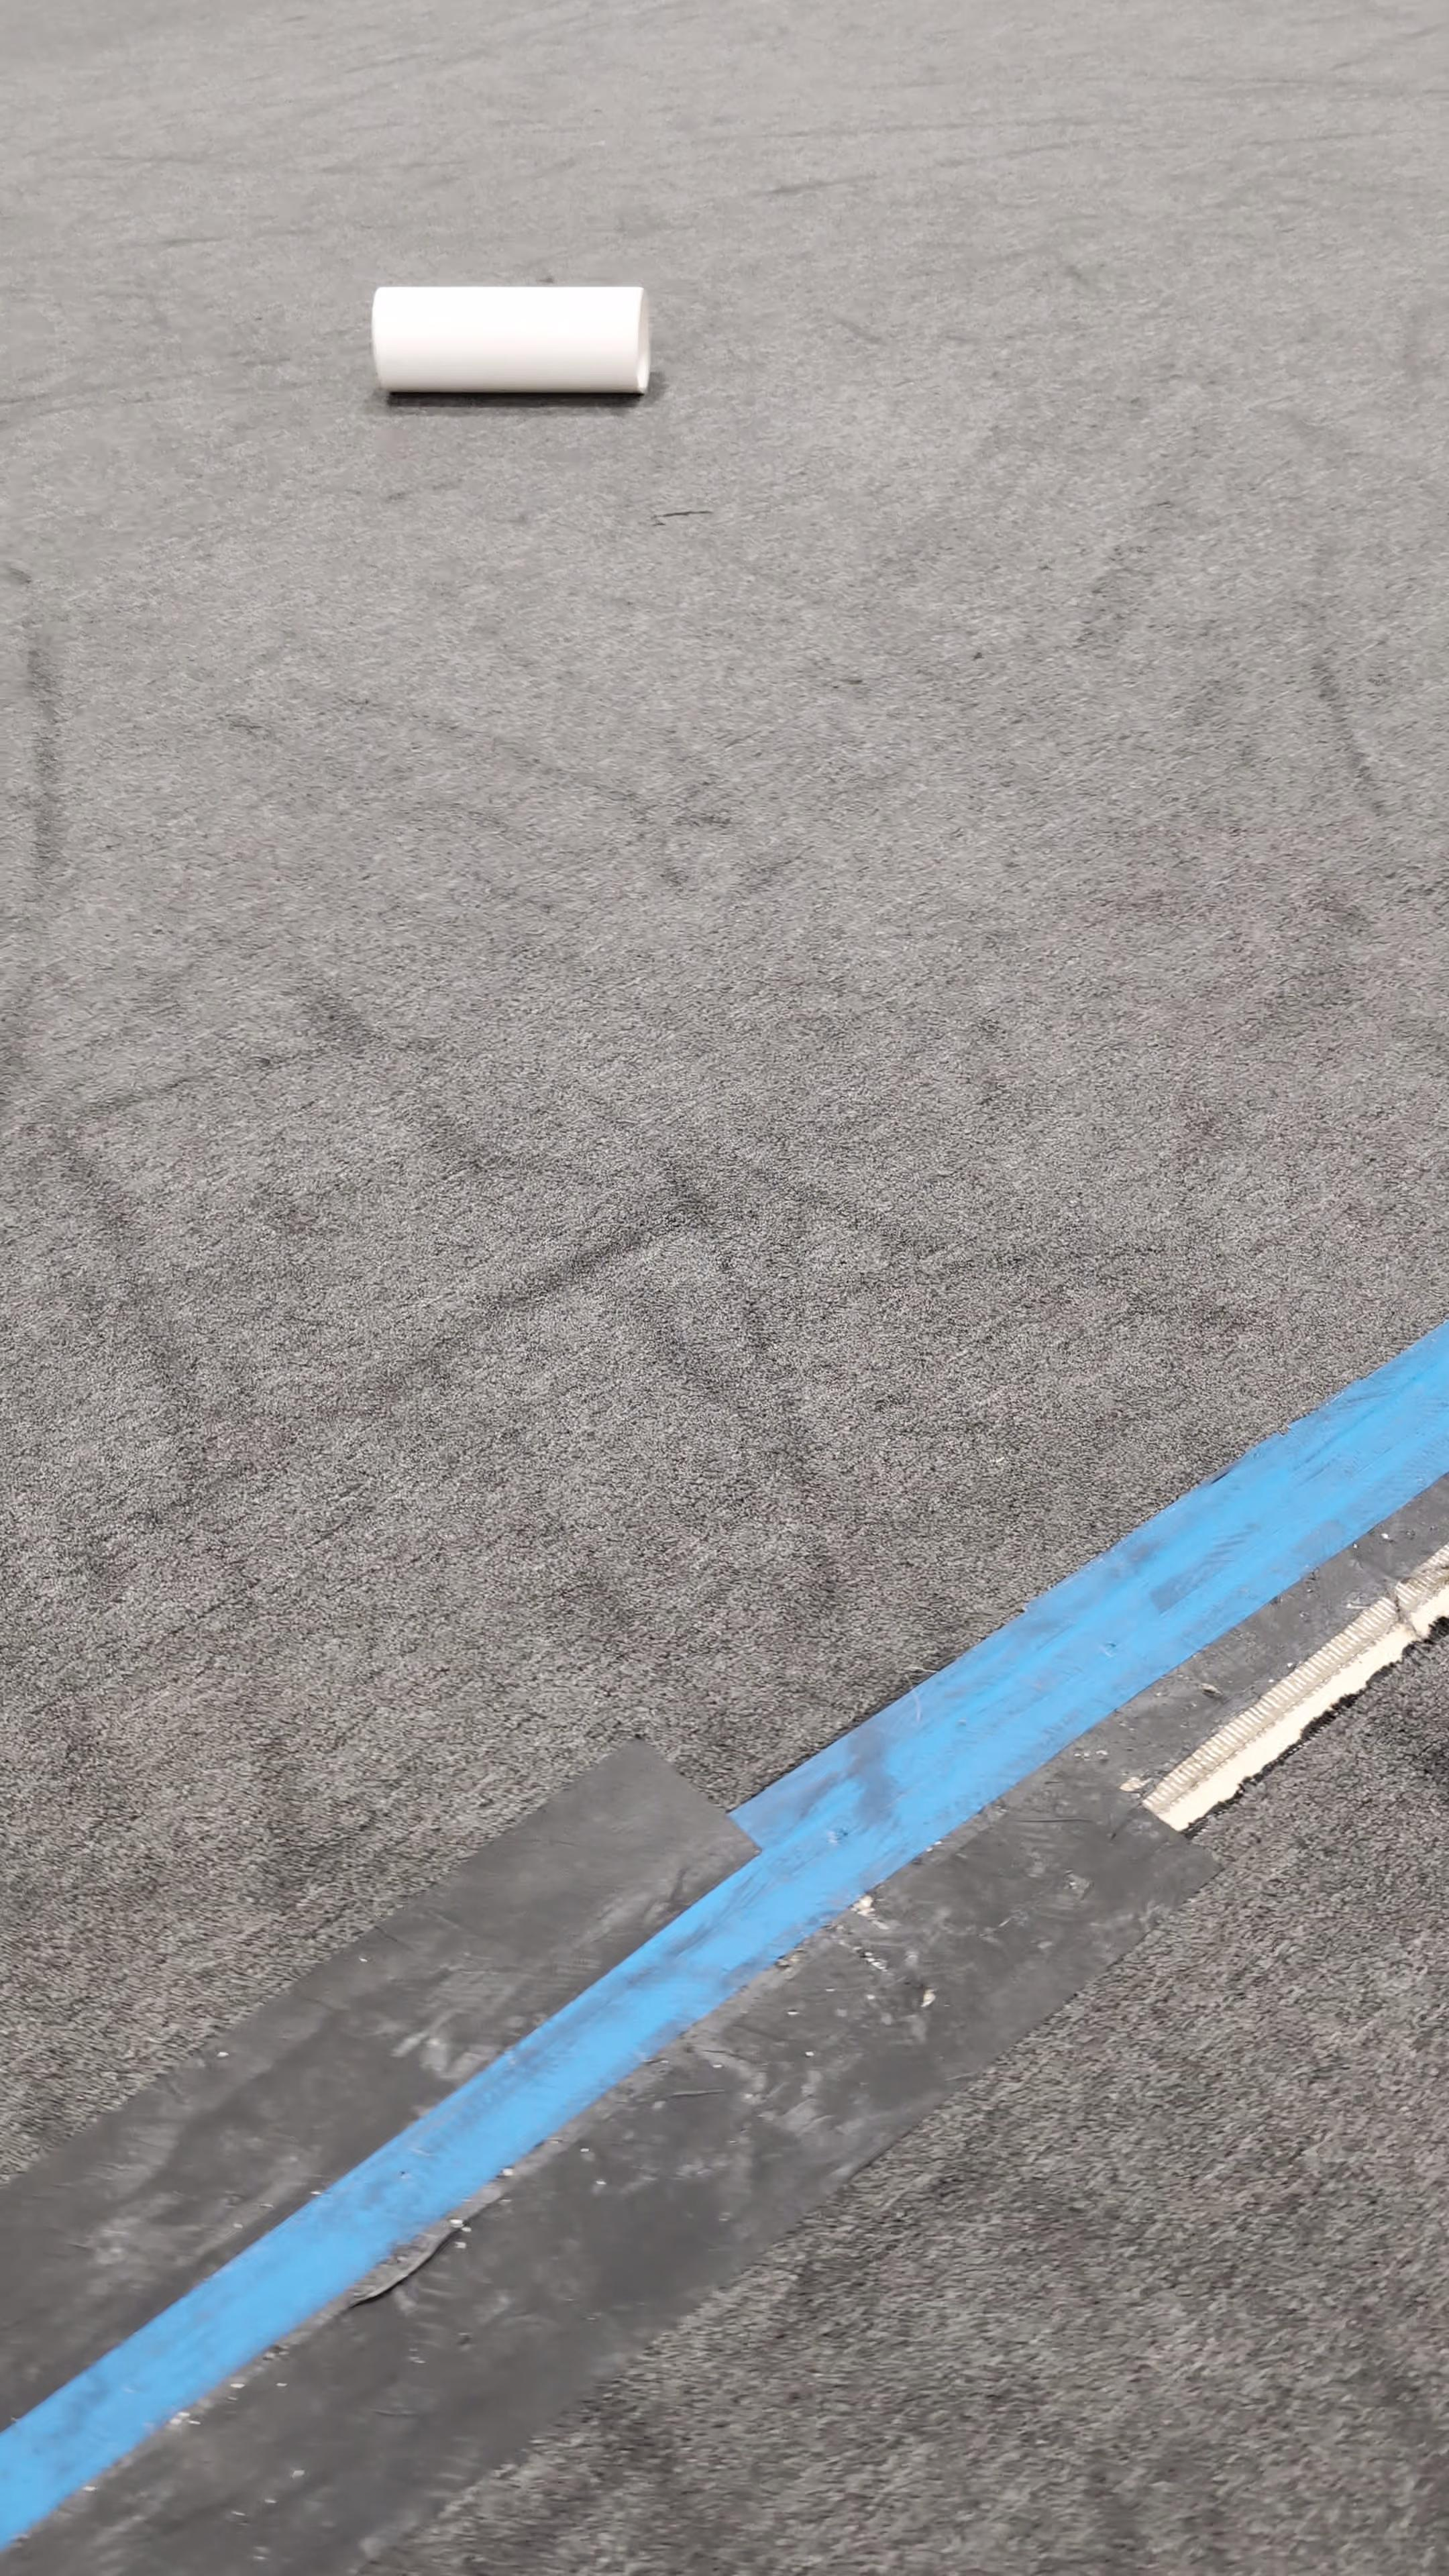coral: (377, 287, 642, 403)
